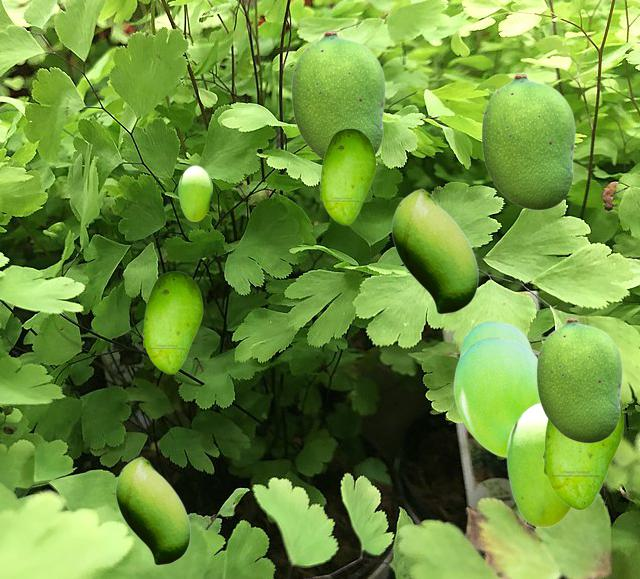green_mango: (481, 73, 574, 209), (291, 30, 384, 159), (391, 188, 477, 313), (536, 317, 621, 442), (453, 337, 538, 456), (542, 402, 623, 509), (115, 456, 189, 564), (506, 402, 570, 526), (142, 271, 202, 373), (319, 128, 375, 224), (459, 321, 532, 356), (178, 165, 211, 220)
